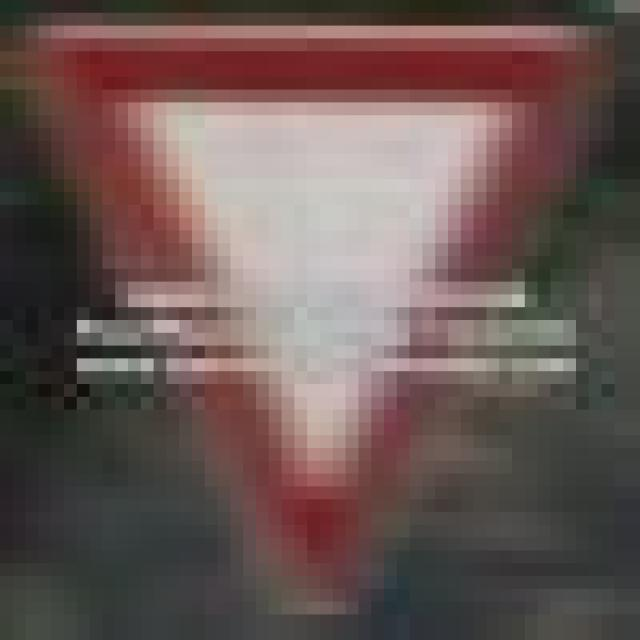gap_in_median: (13, 13, 627, 589)
